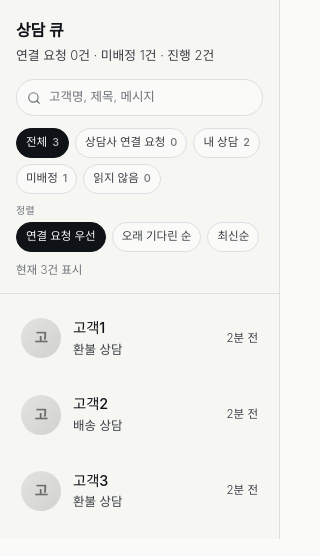
it: QueuePanel › 필터와 검색어를 함께 적용한다
The width and height of the screenshot is (320, 556).
Click the button "내 상담 2": (227, 143) [193,128,260,158]
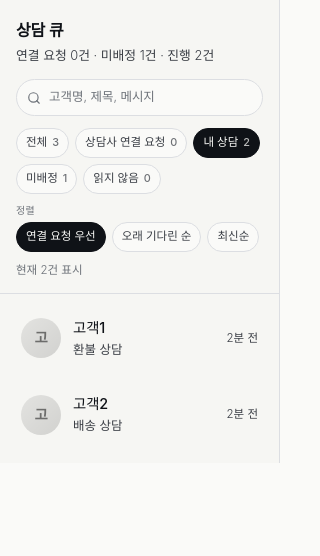
In the field named "상담 큐 검색": (150, 98) [49,88,252,107], type "환불"
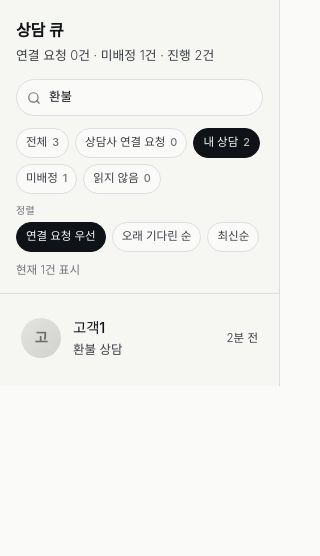
Expected: the text "고객1" is shown, [73,317,105,339]
Result: the button "고객2" is gone
Result: the text "현재 1건 표시" is shown at [16,263,80,277]
